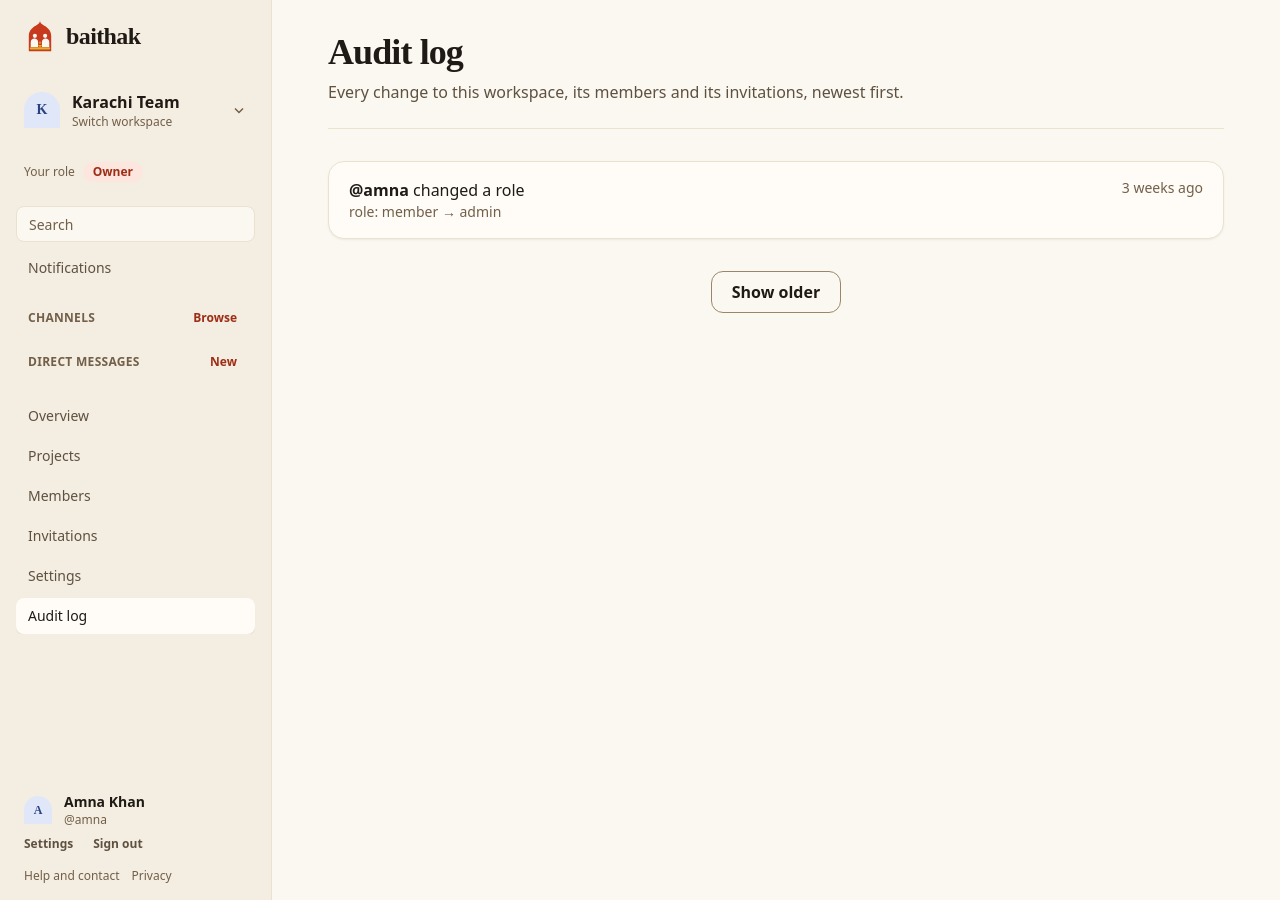
Test: audit log › shows events and loads older ones with the cursor
Expected: the text "changed a role" is shown, 413,179 -> 525,201
Expected: the text "role: member → admin" is shown, 349,202 -> 501,221
Click the button "Show older" at (776,292), box 711,271 -> 841,313
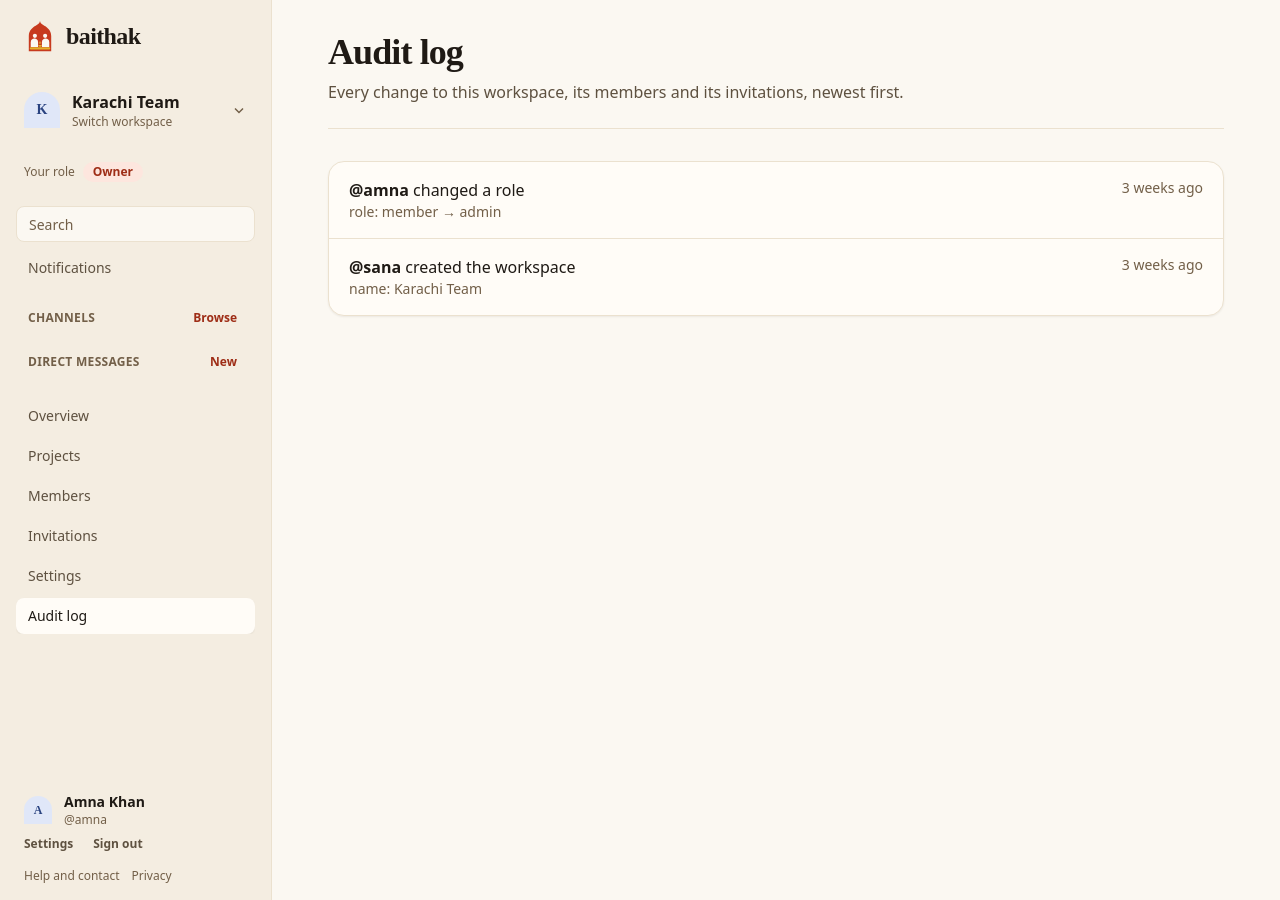
Now the text "created the workspace" is shown, box 405,256 -> 576,278
